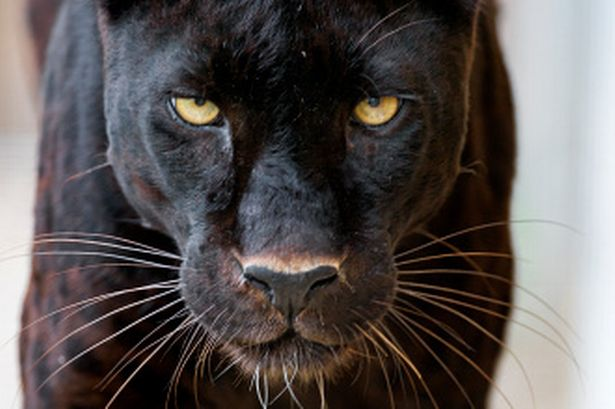panther: (21, 8, 522, 409)
